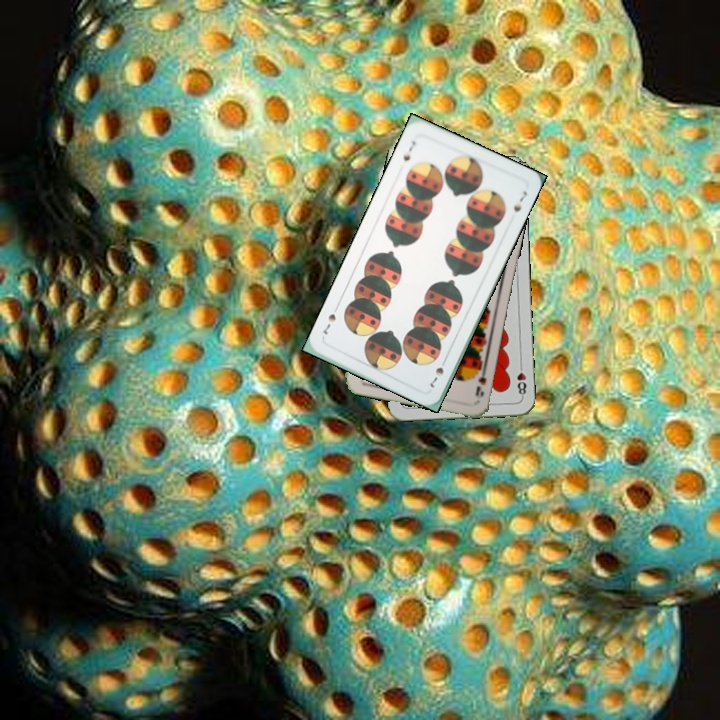H8: (513, 359, 529, 400)
S7: (426, 354, 449, 390), (399, 136, 419, 164)
S9: (471, 361, 489, 399)
